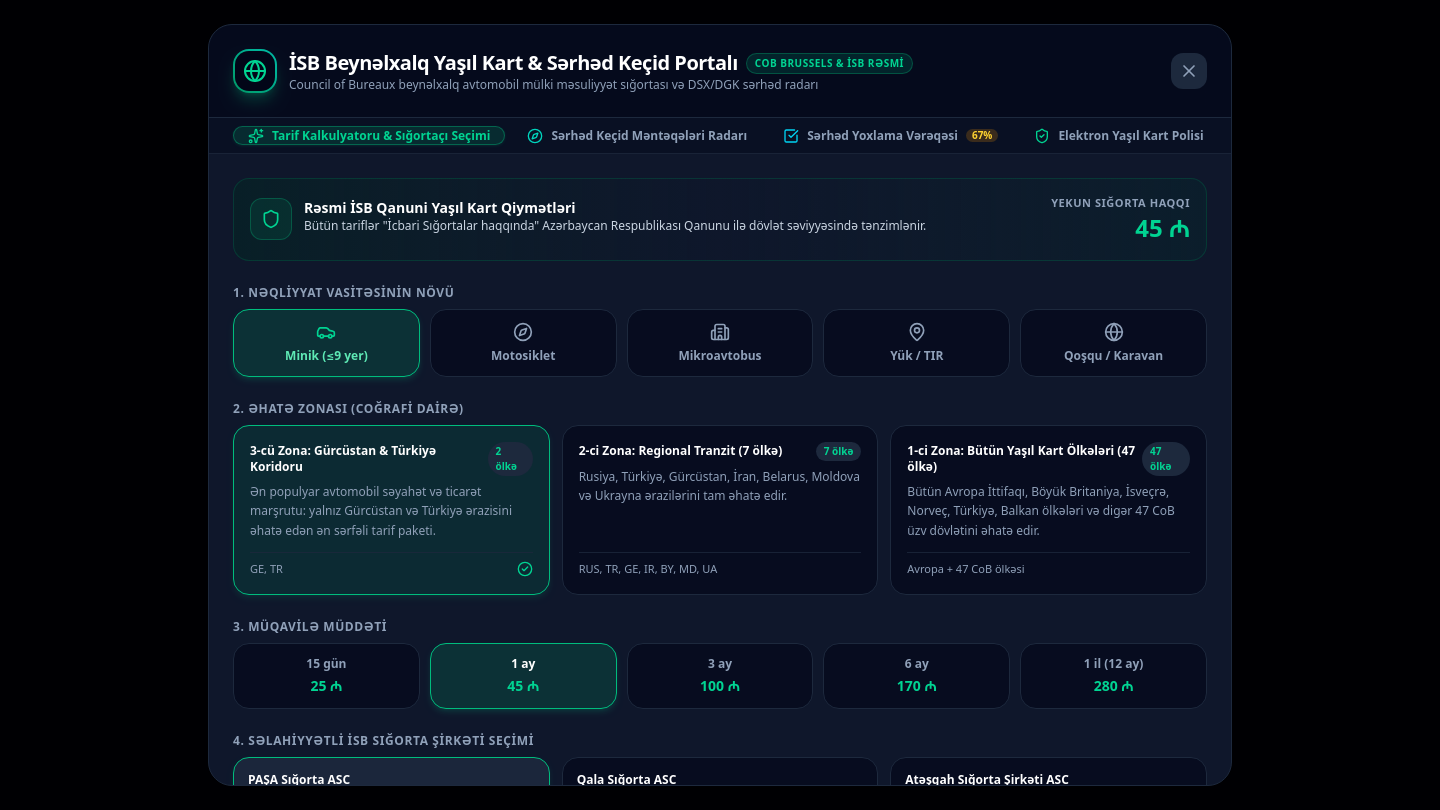
Scenario: GreenCardModal Component › filters border checkpoints by country in radar tab
Step 1. Click the button with test id "tab-radar" → (637, 136), box [513,126,761,145]
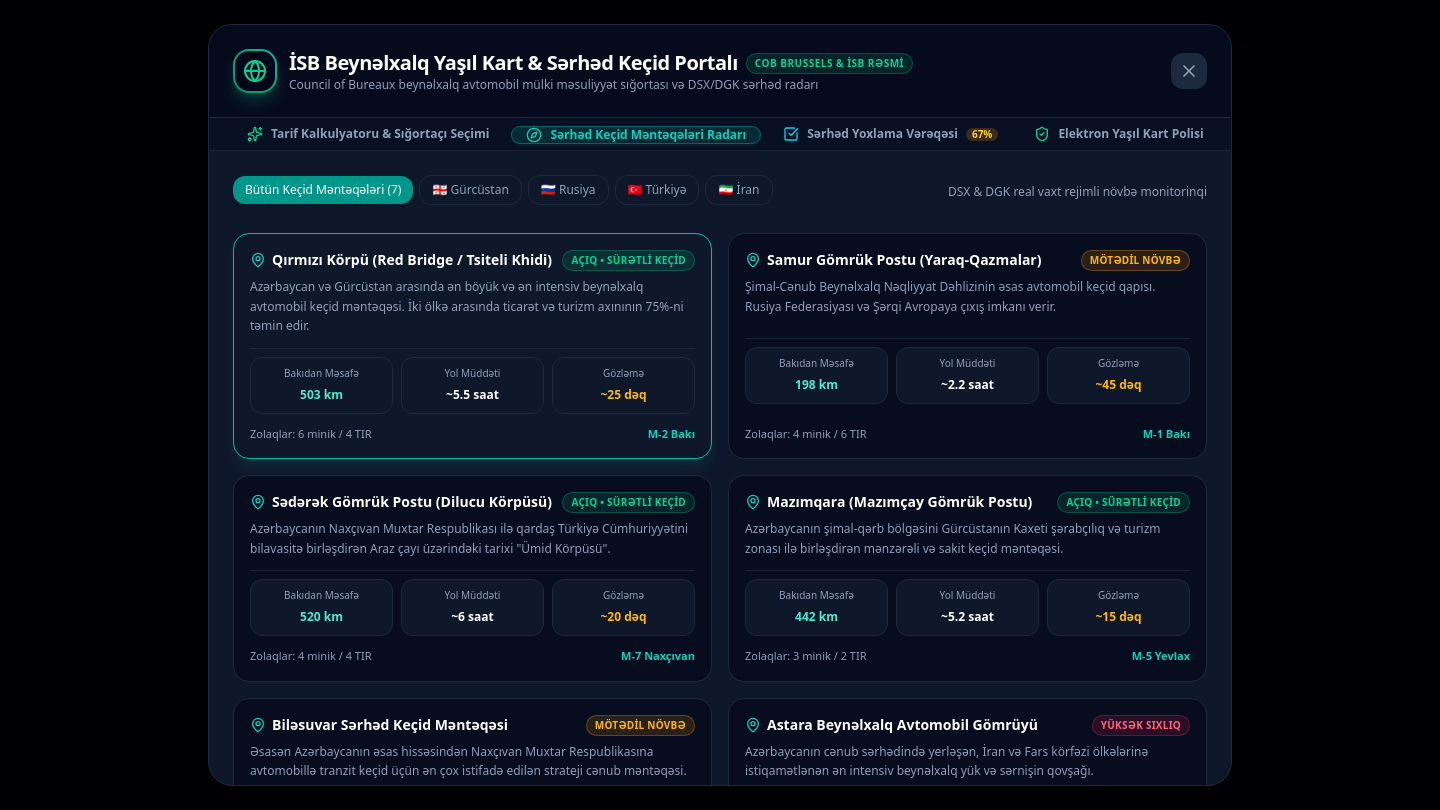
# Filter by Russia
Step 2. Click the button "🇷🇺 Rusiya" → (568, 190), box [528,175,609,205]
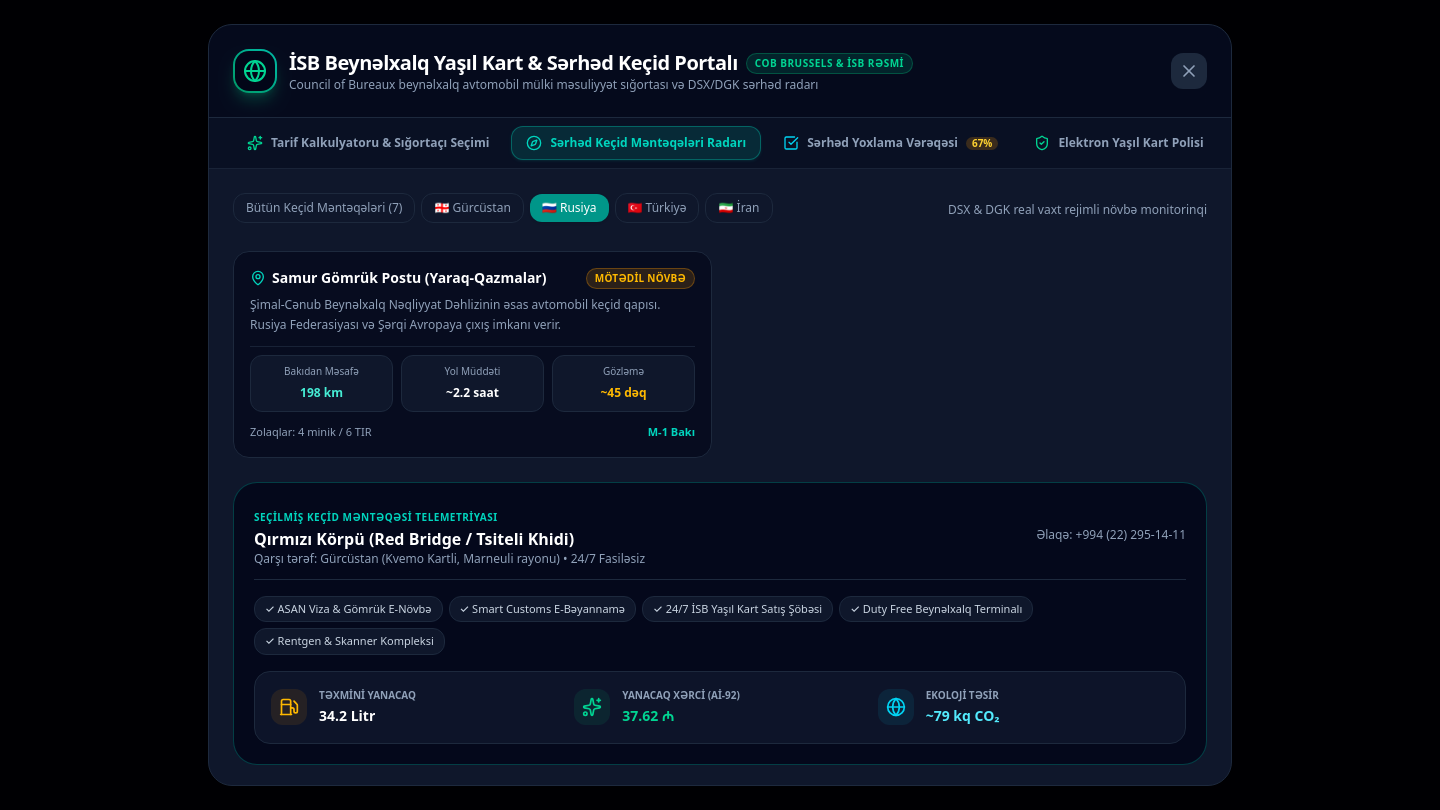
Expected: the text "Samur Gömrük Postu (Yaraq-Qazmalar)" is shown
Step 3. Click the text "Samur Gömrük Postu (Yaraq-Qazmalar)" → (409, 278), box [272,268,546,288]
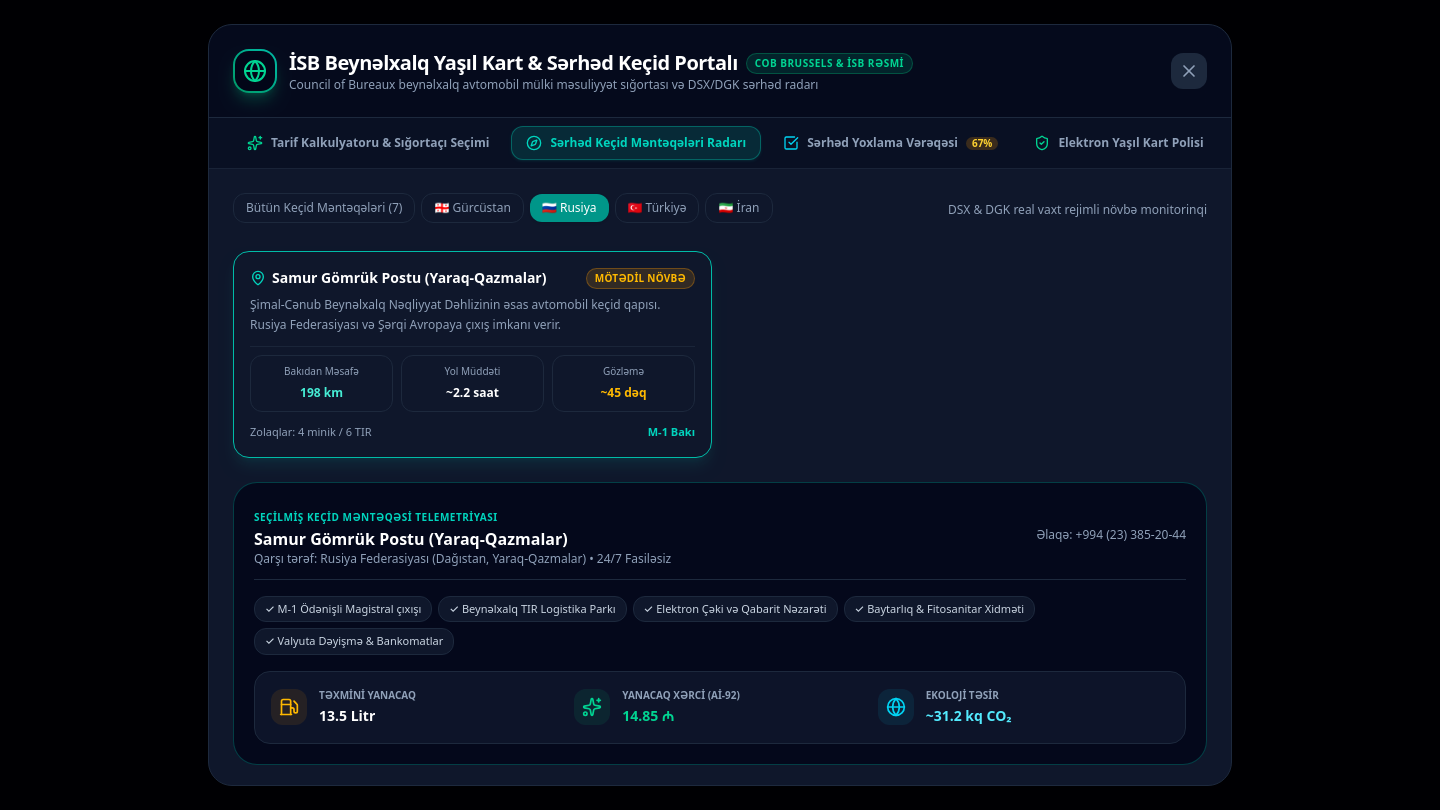
Expected: the heading "Qırmızı Körpü" is gone
# Filter by Turkey
Step 4. Click the button "🇹🇷 Türkiyə" → (657, 208), box [614,193,699,223]
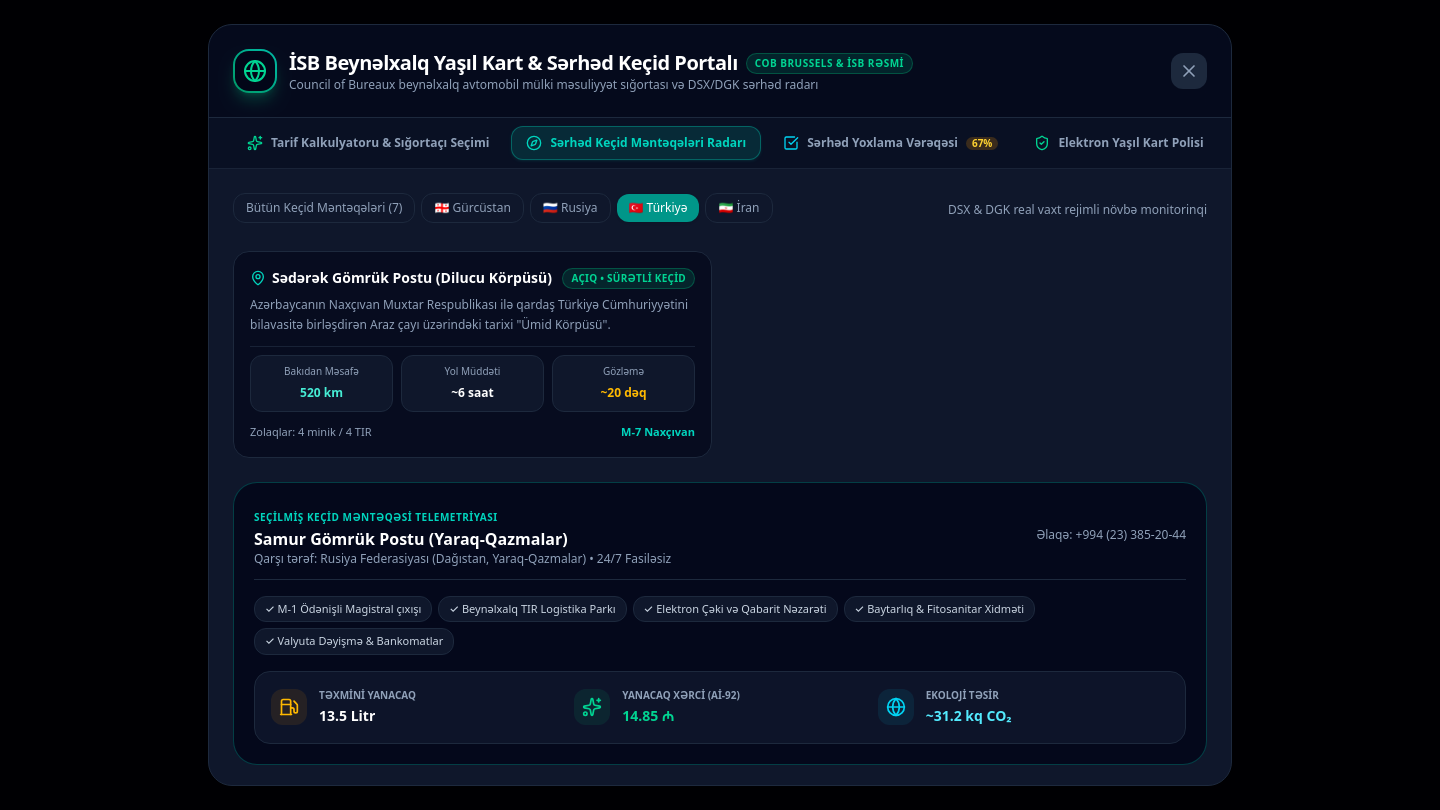
Expected: the text "Sədərək Gömrük Postu (Dilucu Körpüsü)" is shown, [272,268,552,288]
